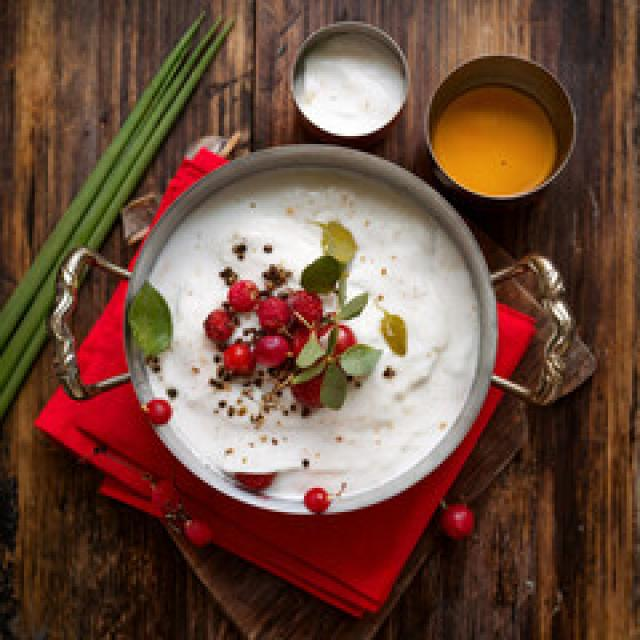CURD: (292, 36, 405, 135)
CURD RICE: (141, 165, 483, 504)
SAMBAR: (438, 86, 562, 200)
